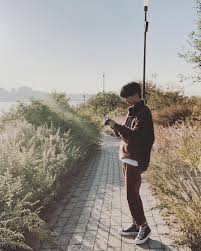people: (111, 83, 155, 245)
